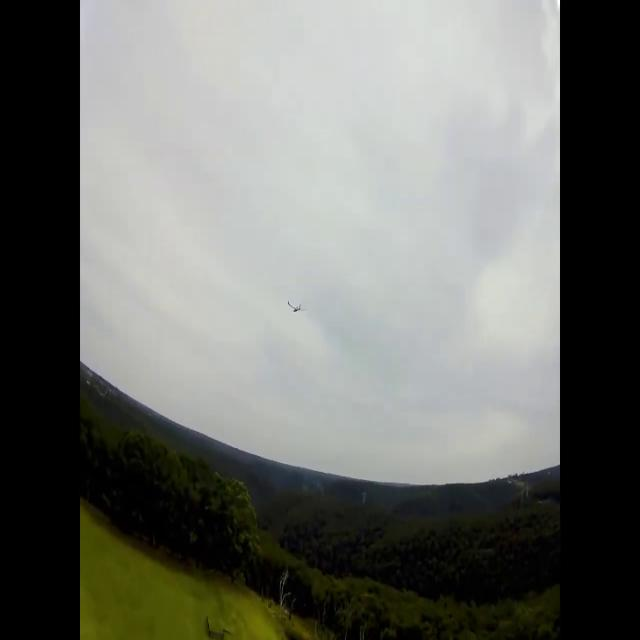iha: (288, 301, 304, 314)
